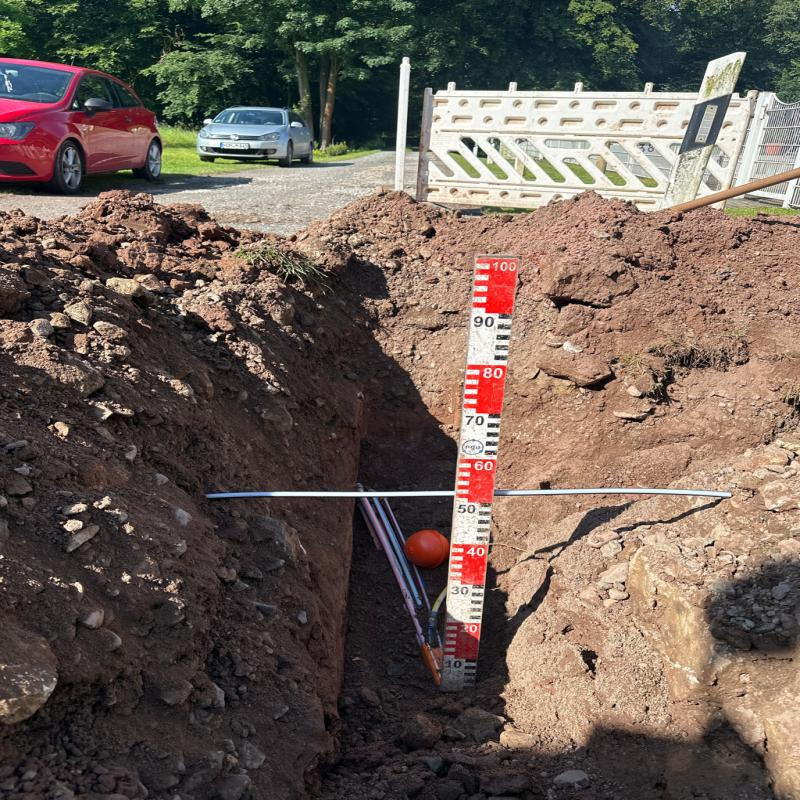Kugelmarker: (404, 529, 450, 569)
Orang-Speednetrohrchen: (404, 589, 442, 684)
